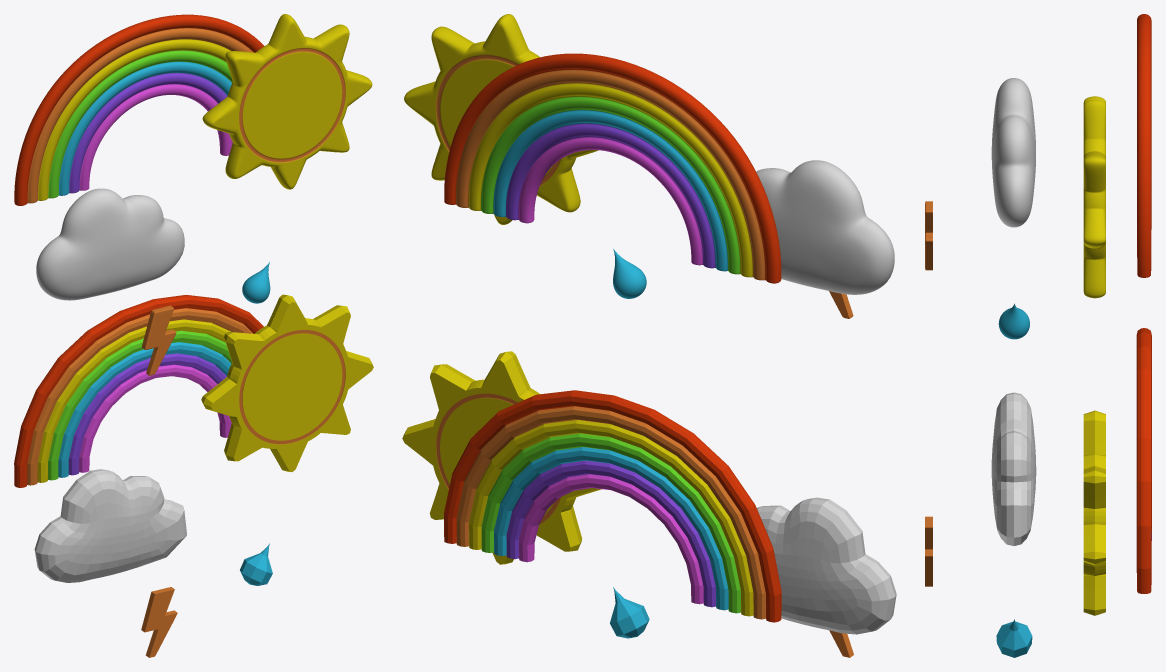
The model's file is Weather_Collection.fbx.
3 renders of one model, left to right at view 1: azimuth 30°, elevation 25°; view 2: azimuth 150°, elevation 25°; view 3: azimuth 270°, elevation 25°, orthographic. The views are drawn at different scales.
Parts seen in each view (by area): view 1: Arc.001, Arc, Sun, Sun.001, Cloud.001, Cloud.002, Light, Light.001, Water.005, Water.000; view 2: Arc, Arc.001, Cloud.001, Cloud.002, Sun, Sun.001, Water.005, Water.000; view 3: Cloud.001, Cloud.002, Sun, Sun.001, Arc, Arc.001, Water.005, Water.000, Light, Light.001.
Part boxes in pixels (bbox=[...]): Arc.001: bbox=[14, 14, 264, 205]; Arc: bbox=[14, 295, 263, 487]; Sun: bbox=[201, 294, 373, 472]; Sun.001: bbox=[202, 14, 372, 189]; Cloud.001: bbox=[34, 469, 186, 582]; Cloud.002: bbox=[36, 188, 184, 300]; Light: bbox=[141, 587, 177, 657]; Light.001: bbox=[142, 305, 176, 375]; Water.005: bbox=[240, 543, 272, 585]; Water.000: bbox=[242, 262, 270, 303]; Arc: bbox=[444, 390, 781, 622]; Arc.001: bbox=[444, 53, 781, 283]; Cloud.001: bbox=[757, 497, 896, 634]; Cloud.002: bbox=[756, 160, 894, 294]; Sun: bbox=[402, 351, 601, 564]; Sun.001: bbox=[404, 14, 597, 224]; Water.005: bbox=[610, 587, 649, 638]; Water.000: bbox=[613, 249, 646, 298]; Cloud.001: bbox=[991, 392, 1036, 545]; Cloud.002: bbox=[991, 78, 1035, 227]; Sun: bbox=[1083, 410, 1105, 615]; Sun.001: bbox=[1083, 96, 1105, 298]; Arc: bbox=[1136, 328, 1151, 593]; Arc.001: bbox=[1137, 14, 1151, 277]; Water.005: bbox=[996, 619, 1032, 657]; Water.000: bbox=[998, 303, 1029, 339]; Light: bbox=[925, 516, 932, 586]; Light.001: bbox=[925, 201, 932, 270].
Bounding box in the file's own units: 152 × 212 × 71.55.
